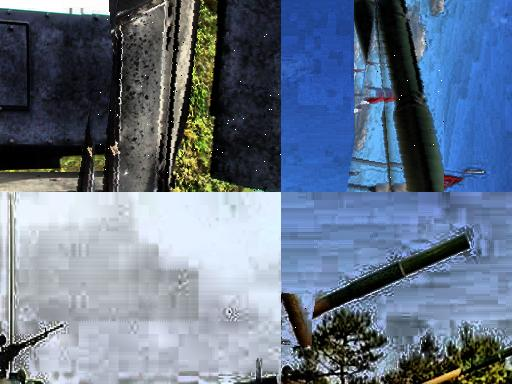tanks: (97, 1, 194, 193), (207, 1, 282, 193), (378, 1, 445, 193), (1, 331, 53, 384), (283, 293, 307, 345), (471, 348, 512, 370), (421, 369, 468, 384), (305, 345, 308, 348)
